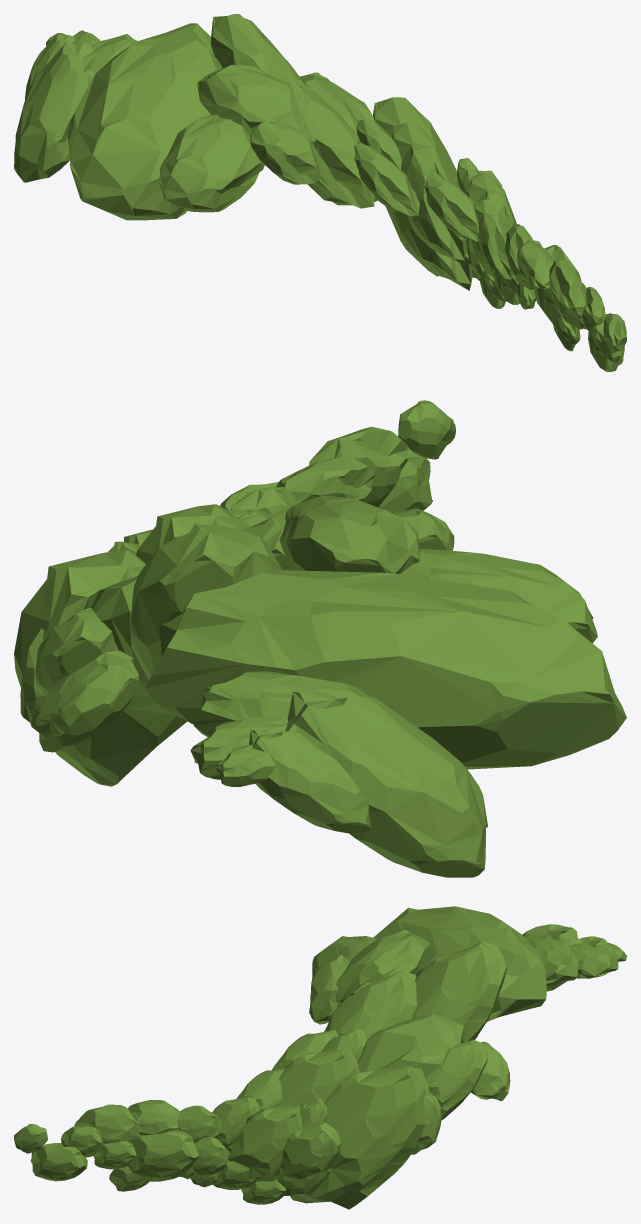
The model's file is moss5.fbx.
3 renders of one model, top to bottom at view 1: azimuth 30°, elevation 25°; view 2: azimuth 150°, elevation 25°; view 3: azimuth 270°, elevation 25°, orthographic. The views are drawn at different scales.
Parts seen in each view (by area): view 1: Group63459.013, Group63459.012, Group63459.022, Group63459.014, Group63459.016, Group63459.018, Group63459.015, Group63459.023, Group63459.017, Group63459.034, Group63459.033, Group63476.010 (+16 smaller); view 2: Group63459.013, Group63459.022, Group63459.015, Group63459.017, Group63459.014, Group63459.026, Group63459.027, Group63459.012, Group63459.020, Group63459.019, Group63459.036, Group63459.037 (+10 smaller); view 3: Group63459.015, Group63459.013, Group63459.017, Group63476.010, Group63459.018, Group63459.029, Group63459.014, Group63459.016, Group63459.035, Group63459.019, Group63459.049, Group63459.045 (+23 smaller).
Part boxes in pixels (left/top/right/bottom): Group63459.013: left=67, top=23, right=222, bottom=220; Group63459.012: left=159, top=114, right=264, bottom=212; Group63459.022: left=14, top=42, right=93, bottom=182; Group63459.014: left=197, top=64, right=315, bottom=143; Group63459.016: left=392, top=122, right=466, bottom=265; Group63459.018: left=280, top=77, right=374, bottom=208; Group63459.015: left=373, top=97, right=472, bottom=290; Group63459.023: left=249, top=117, right=321, bottom=184; Group63459.017: left=211, top=14, right=302, bottom=81; Group63459.034: left=354, top=143, right=419, bottom=216; Group63459.033: left=424, top=172, right=478, bottom=241; Group63476.010: left=299, top=74, right=377, bottom=205; Group63459.013: left=144, top=570, right=626, bottom=769; Group63459.022: left=285, top=691, right=488, bottom=877; Group63459.015: left=14, top=550, right=186, bottom=786; Group63459.017: left=131, top=523, right=282, bottom=680; Group63459.014: left=279, top=496, right=420, bottom=573; Group63459.026: left=249, top=730, right=371, bottom=833; Group63459.027: left=36, top=650, right=139, bottom=752; Group63459.012: left=401, top=549, right=597, bottom=643; Group63459.020: left=193, top=671, right=368, bottom=737; Group63459.019: left=35, top=608, right=118, bottom=697; Group63459.036: left=309, top=426, right=408, bottom=507; Group63459.037: left=276, top=457, right=374, bottom=503; Group63459.015: left=290, top=1066, right=430, bottom=1209; Group63459.013: left=373, top=906, right=546, bottom=1021; Group63459.017: left=412, top=942, right=507, bottom=1041; Group63476.010: left=358, top=1014, right=464, bottom=1077; Group63459.018: left=324, top=971, right=416, bottom=1038; Group63459.029: left=228, top=1105, right=302, bottom=1181; Group63459.014: left=336, top=930, right=431, bottom=1003; Group63459.016: left=277, top=1049, right=359, bottom=1106; Group63459.035: left=128, top=1129, right=199, bottom=1181; Group63459.019: left=425, top=1039, right=487, bottom=1120; Group63459.049: left=280, top=1122, right=340, bottom=1179; Group63459.045: left=30, top=1143, right=87, bottom=1181.
Bounding box in the file's own units: 2348 × 1423 × 3786.
